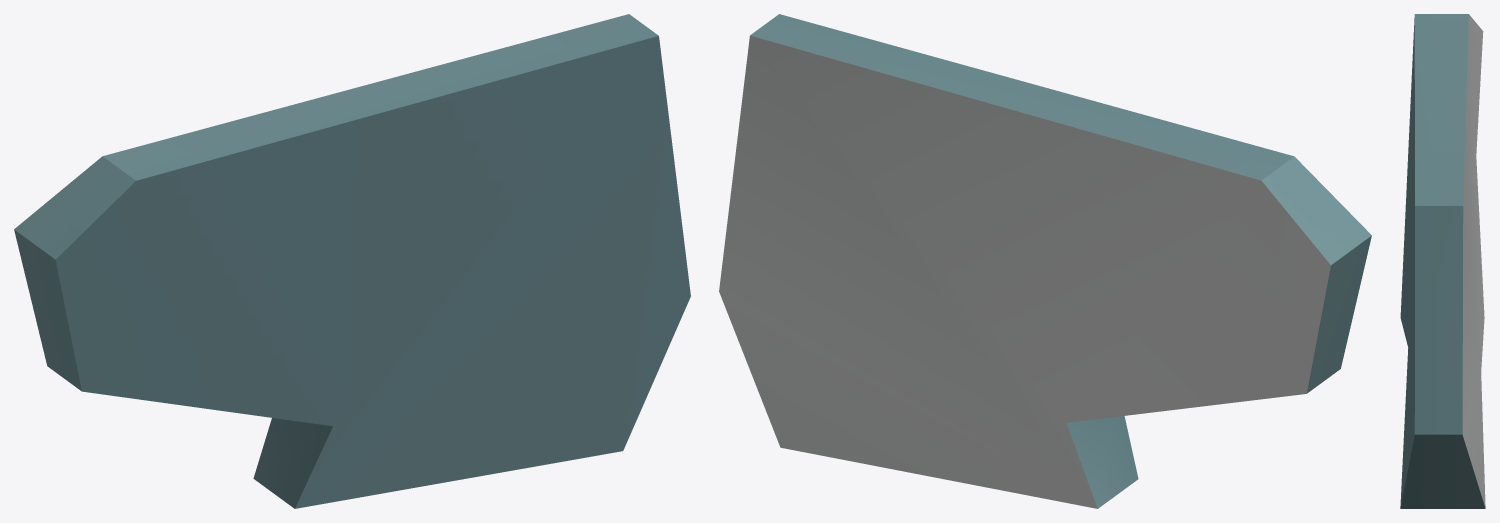
File: IceDrift.011.glb
3 views of the same model, side by side, from view 1: azimuth 30°, elevation 25°; view 2: azimuth 150°, elevation 25°; view 3: azimuth 270°, elevation 25° (orthographic). The views are drawn at different scales.
Parts seen in each view (by area): view 1: IceDrift.011; view 2: IceDrift.011; view 3: IceDrift.011.
Boxes of the visible parts, bbox=[...] form: IceDrift.011: bbox=[14, 14, 690, 508]; IceDrift.011: bbox=[719, 14, 1371, 508]; IceDrift.011: bbox=[1400, 14, 1485, 508].
Size of the model in its own units: 348 by 208 by 50.17.
